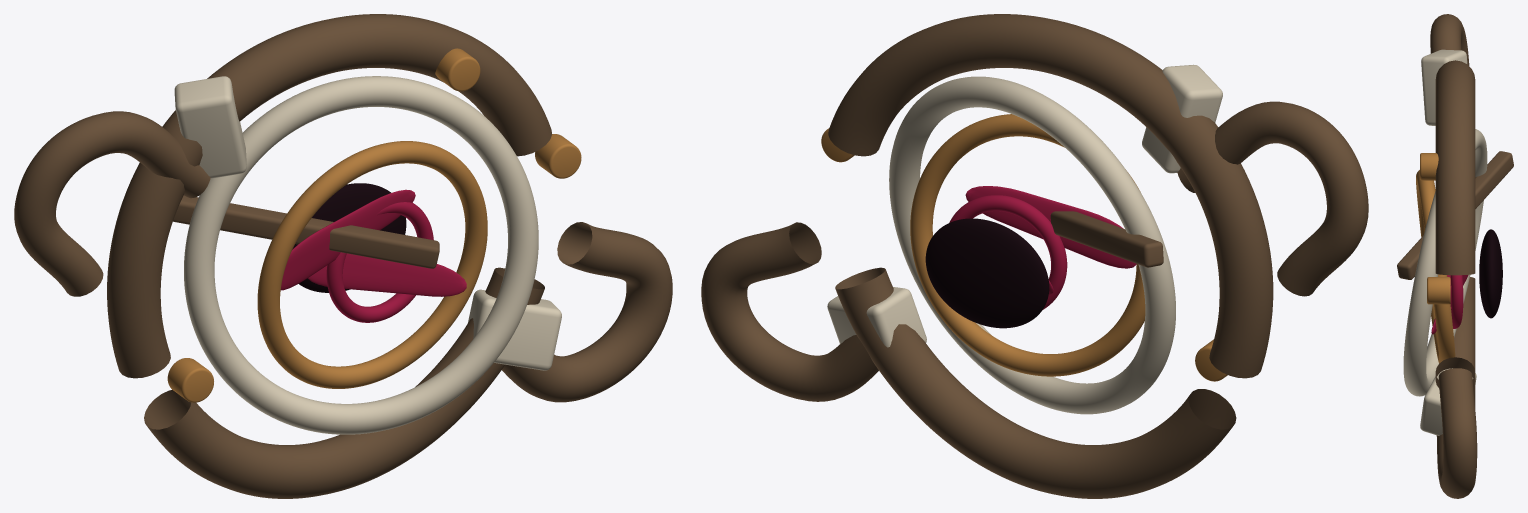
The model's file is processional-aperture-engine.glb.
3 renders of one model, left to right at view 1: azimuth 30°, elevation 25°; view 2: azimuth 150°, elevation 25°; view 3: azimuth 270°, elevation 25°, orthographic. The views are drawn at different scales.
Parts seen in each view (by area): view 1: tilted_outer_gimbal, broken_processional_shell_upper, broken_processional_shell_lower, offset_inner_gimbal, long_processional_control_lever, lower_right_weighted_grip, diagonal_locking_bar, upper_left_counterweight, lower_recessed_membrane, lower_right_counterweight, upper_recessed_membrane, tissue_aperture_lip (+4 smaller); view 2: broken_processional_shell_upper, broken_processional_shell_lower, tilted_outer_gimbal, lower_right_weighted_grip, long_processional_control_lever, offset_inner_gimbal, deep_recessed_biological_cavity, diagonal_locking_bar, upper_left_counterweight, upper_recessed_membrane, tissue_aperture_lip, lower_right_counterweight; view 3: broken_processional_shell_upper, tilted_outer_gimbal, lower_right_weighted_grip, offset_inner_gimbal, broken_processional_shell_lower, deep_recessed_biological_cavity, diagonal_locking_bar, upper_left_counterweight, long_processional_control_lever, lower_right_counterweight, structural_lock_3, tissue_aperture_lip (+1 smaller).
Part boxes in pixels (bbox=[...]): tilted_outer_gimbal: bbox=[184, 76, 538, 434]; broken_processional_shell_upper: bbox=[107, 14, 551, 378]; broken_processional_shell_lower: bbox=[144, 267, 544, 498]; offset_inner_gimbal: bbox=[257, 141, 487, 388]; long_processional_control_lever: bbox=[14, 111, 210, 296]; lower_right_weighted_grip: bbox=[502, 222, 672, 402]; diagonal_locking_bar: bbox=[173, 195, 439, 268]; upper_left_counterweight: bbox=[174, 76, 246, 178]; lower_recessed_membrane: bbox=[308, 253, 466, 296]; lower_right_counterweight: bbox=[467, 289, 561, 370]; upper_recessed_membrane: bbox=[280, 189, 415, 290]; tissue_aperture_lip: bbox=[326, 202, 433, 322]; broken_processional_shell_upper: bbox=[828, 14, 1273, 378]; broken_processional_shell_lower: bbox=[835, 267, 1236, 498]; tilted_outer_gimbal: bbox=[889, 76, 1175, 414]; lower_right_weighted_grip: bbox=[701, 222, 878, 401]; long_processional_control_lever: bbox=[1177, 101, 1368, 296]; offset_inner_gimbal: bbox=[910, 114, 1145, 376]; deep_recessed_biological_cavity: bbox=[925, 218, 1049, 328]; diagonal_locking_bar: bbox=[1050, 211, 1163, 267]; upper_left_counterweight: bbox=[1142, 64, 1222, 173]; upper_recessed_membrane: bbox=[965, 186, 1136, 268]; tissue_aperture_lip: bbox=[949, 195, 1067, 309]; lower_right_counterweight: bbox=[827, 287, 926, 347]; broken_processional_shell_upper: bbox=[1435, 60, 1475, 275]; tilted_outer_gimbal: bbox=[1403, 129, 1487, 396]; lower_right_weighted_grip: bbox=[1436, 368, 1477, 498]; offset_inner_gimbal: bbox=[1416, 170, 1455, 363]; broken_processional_shell_lower: bbox=[1435, 277, 1475, 407]; deep_recessed_biological_cavity: bbox=[1479, 229, 1502, 318]; diagonal_locking_bar: bbox=[1397, 151, 1513, 279]; upper_left_counterweight: bbox=[1421, 49, 1467, 125]; long_processional_control_lever: bbox=[1430, 14, 1469, 65]; lower_right_counterweight: bbox=[1420, 368, 1476, 435]; structural_lock_3: bbox=[1427, 277, 1450, 304]; tissue_aperture_lip: bbox=[1447, 275, 1463, 328].
Bounding box in the file's own units: 236 × 161 × 49.35.
